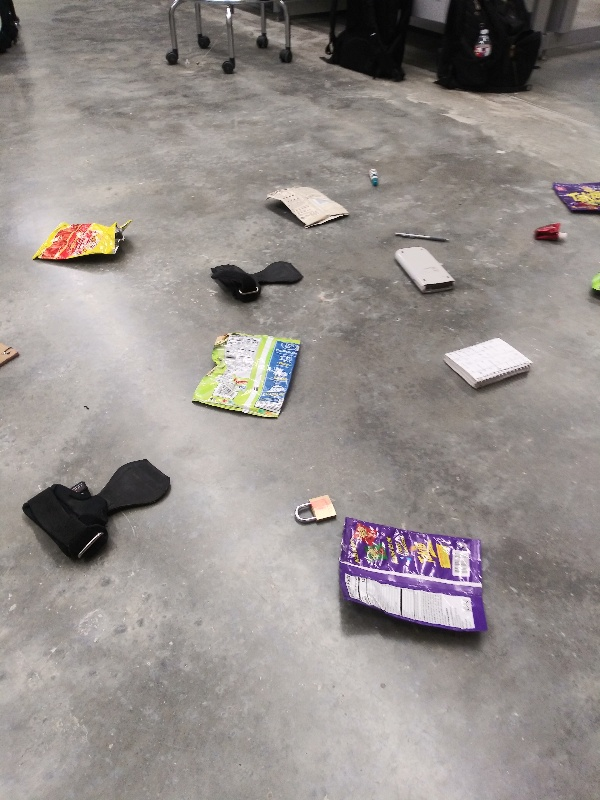bag: (330, 515, 496, 643), (188, 327, 311, 426), (26, 218, 134, 268), (264, 179, 356, 232), (545, 177, 600, 218)
bottle: (471, 25, 497, 58)
